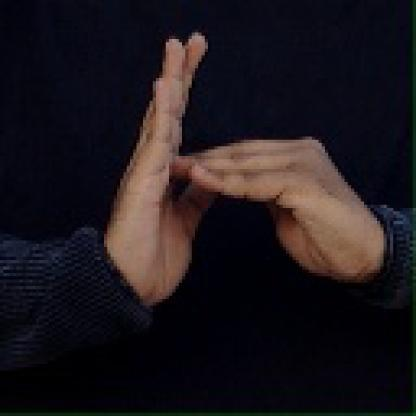Z: (98, 21, 358, 290)
